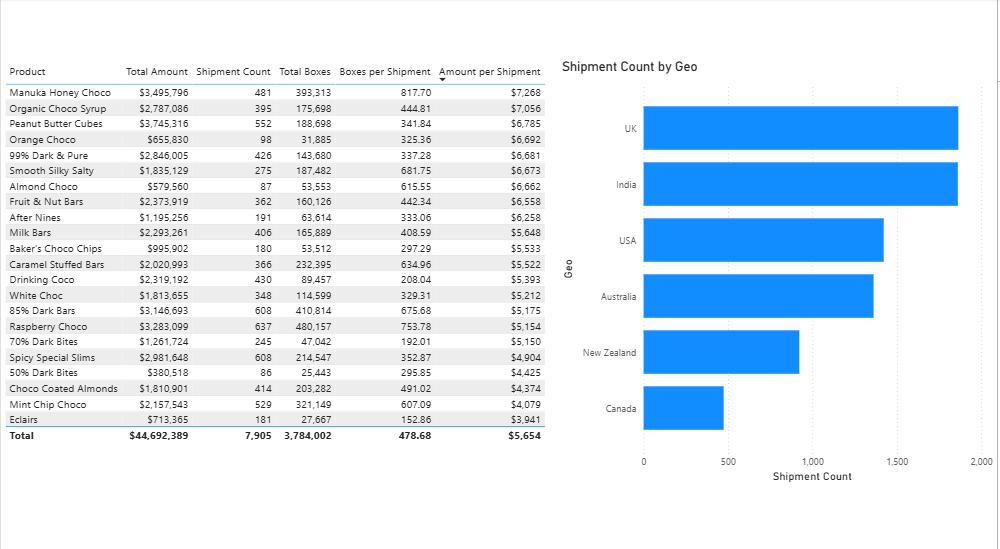

Layout of this report page (visuals, bound fields, positions):
{"tool":"powerbi","page":{"name":"Page 2","canvas":[1280,720],"ordinal":1},"visuals":[{"type":"tableEx","fields":{"Values":["products.Product","shipments.Total Amount","shipments.Shipment Count","shipments.Total Boxes","shipments.Boxes per Shipment","shipments.Amount per Shipment"]},"box":[0,78.4,705.5,548.8],"z":0},{"type":"clusteredBarChart","fields":{"Y":["shipments.Shipment Count"],"Category":["locations.Geo"]},"box":[716,78,564,549],"z":1000}]}

Visuals, with their boxes in screenshot pixels (x1, y1, x2, y2), scaled from the page's 1280x720 canvas onto the 1000x549 screenshot:
tableEx - products.Product x shipments.Total Amount: (0, 60, 551, 478)
clusteredBarChart - shipments.Shipment Count x locations.Geo: (559, 59, 999, 478)
